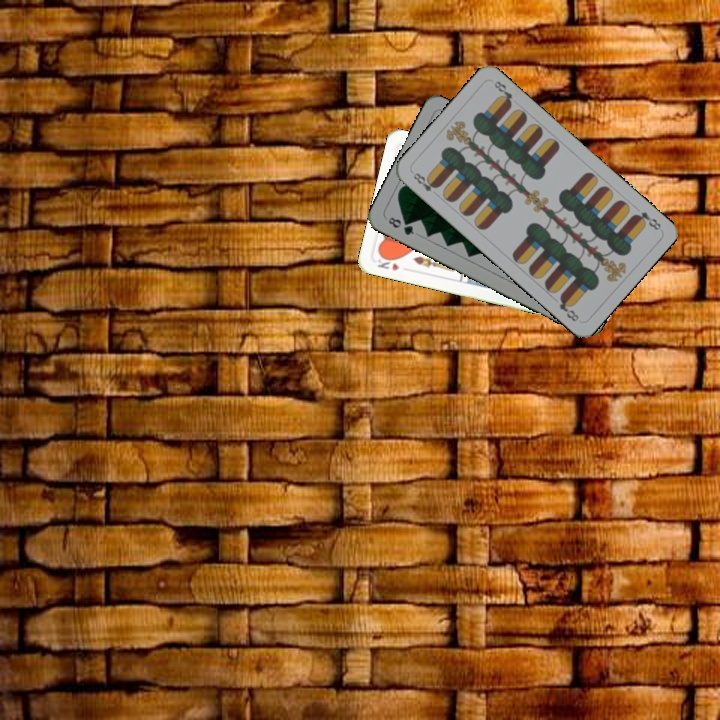E8: (629, 207, 664, 233), (408, 168, 441, 195)
G8: (384, 213, 417, 238)
HK: (373, 252, 402, 273)
